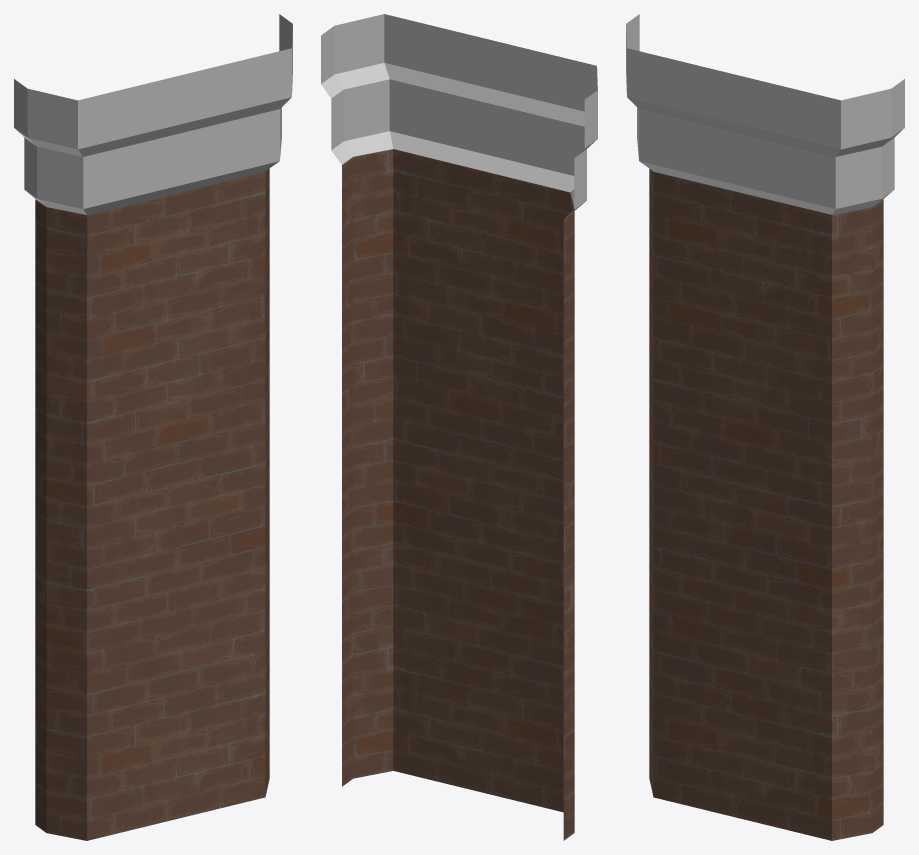
The model's file is Brick_HalfColumn_Top.gltf.
3 views of the same model, side by side, from view 1: azimuth 30°, elevation 25°; view 2: azimuth 150°, elevation 25°; view 3: azimuth 330°, elevation 25° (orthographic).
Parts seen in each view (by area): view 1: Brick_HalfColumn_Top; view 2: Brick_HalfColumn_Top; view 3: Brick_HalfColumn_Top.
Part boxes in pixels (bbox=[...]): Brick_HalfColumn_Top: bbox=[14, 14, 292, 840]; Brick_HalfColumn_Top: bbox=[321, 14, 597, 840]; Brick_HalfColumn_Top: bbox=[626, 14, 904, 840].
Bounding box in the file's own units: 1.11 × 3 × 0.2763.
